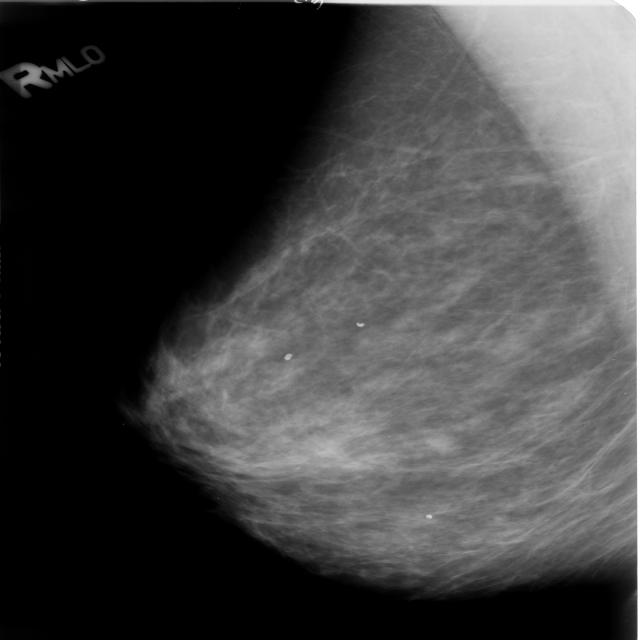normal: (124, 0, 640, 583)
